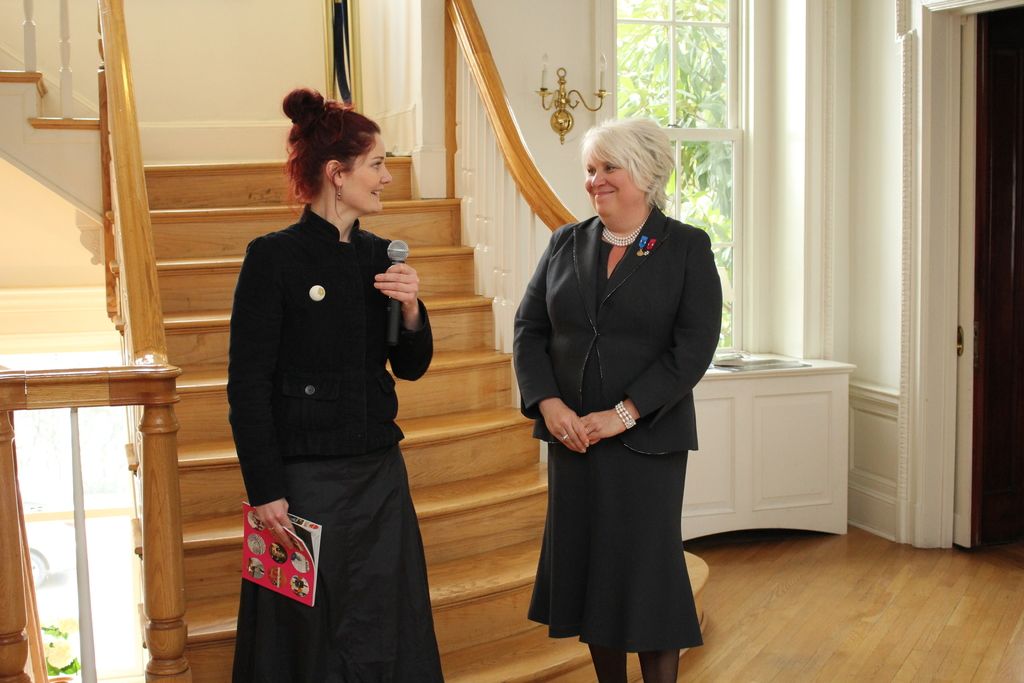face: (340, 131, 393, 211)
